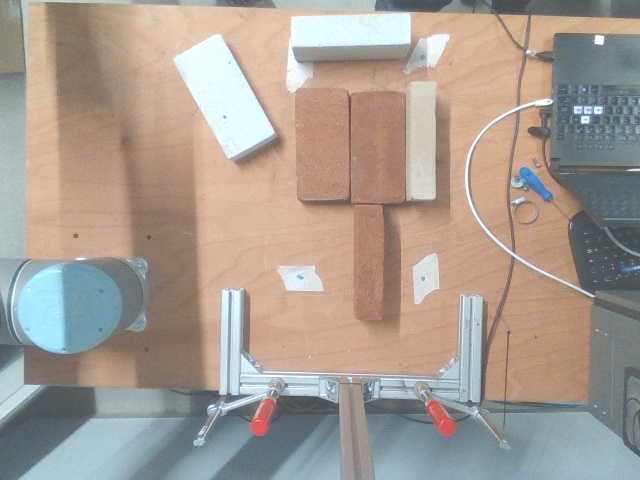brick: (174, 34, 275, 158), (352, 93, 404, 200), (298, 89, 346, 198)
brick-side: (292, 15, 411, 46), (356, 206, 383, 318), (411, 82, 435, 198)
